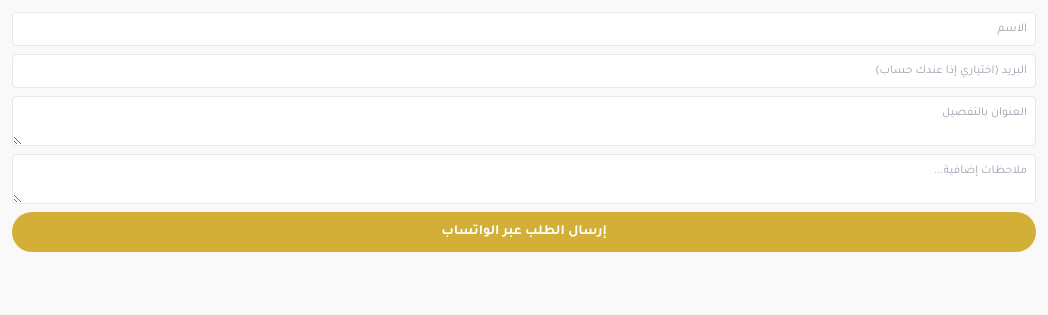
Test: shows "الاسم مطلوب" when name missing on submit
Click the button with test id "submit-order": {"x": 524, "y": 232} 12,212 -> 1036,252
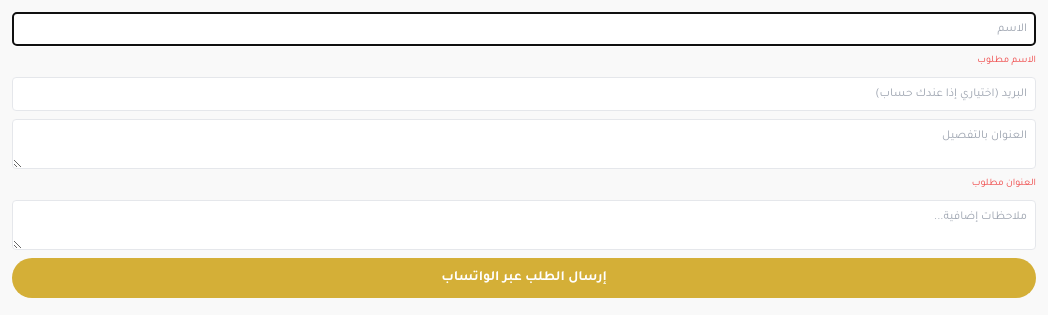
Now the text "الاسم مطلوب" is shown, box 977,56 -> 1036,66
